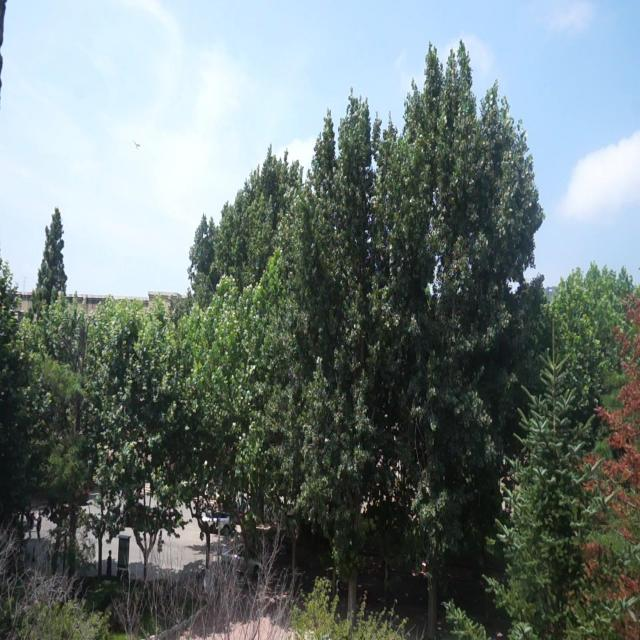UAV: (134, 141, 140, 149)
